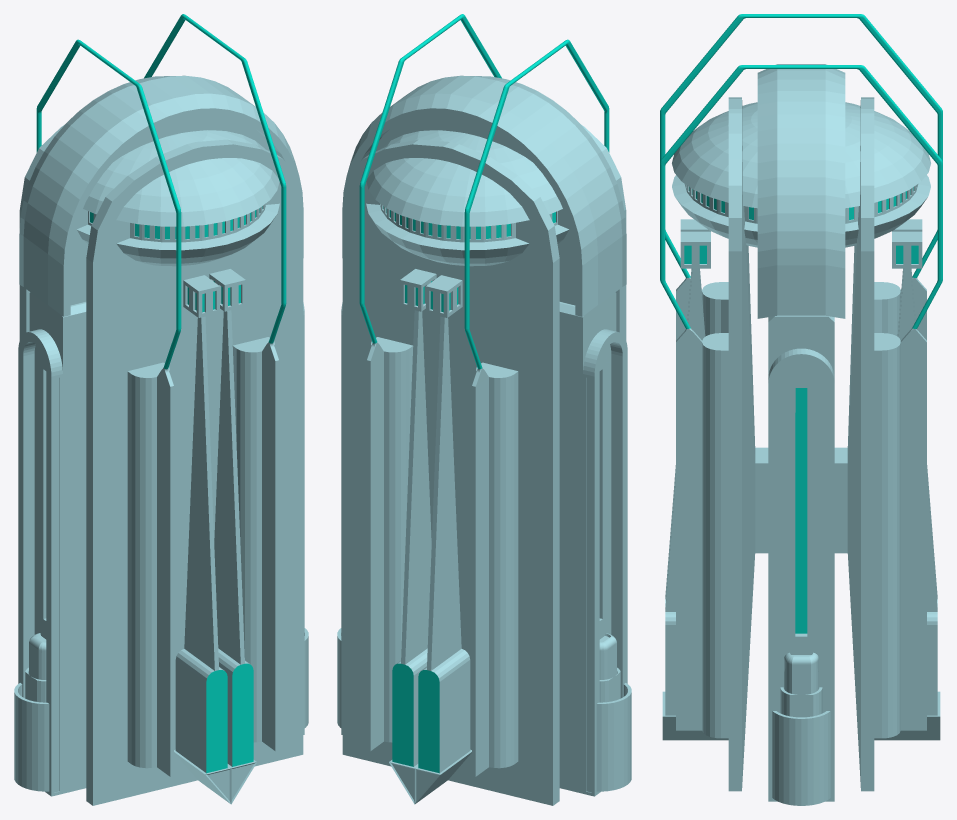
3 views of the same model, side by side, from view 1: azimuth 30°, elevation 25°; view 2: azimuth 150°, elevation 25°; view 3: azimuth 270°, elevation 25° (orthographic).
Visible parts, largest first — view 1: Cube; view 2: Cube; view 3: Cube.
Part boxes in pixels (x1,y1,x2,y2): Cube: (14, 14, 308, 805); Cube: (337, 14, 631, 805); Cube: (660, 14, 942, 805).
Size of the model in its own units: 248 by 584 by 214.
